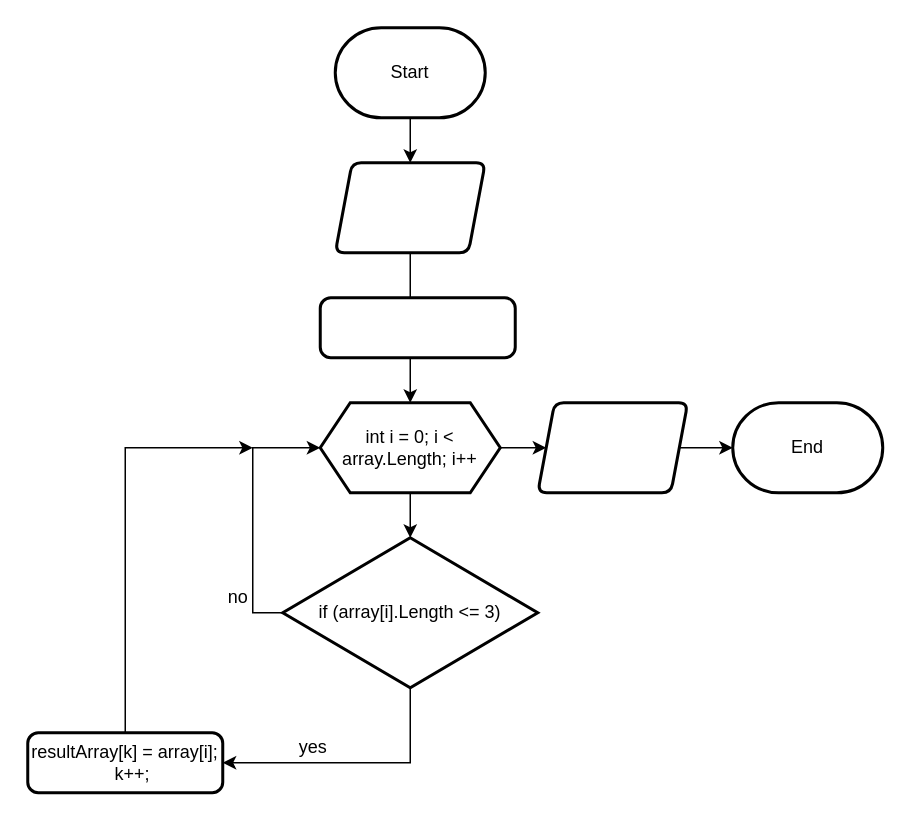
This 909x831 diagram has some shape labels left out. Each missing label, with the box of its shape:
Data in (array): (333, 160, 486, 254)
Data out (resultArray): (536, 400, 688, 494)
resultArray; k=0: (318, 296, 516, 358)
